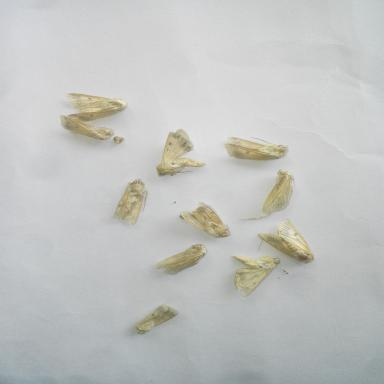abw: (219, 243, 289, 300), (251, 216, 320, 269), (148, 126, 211, 180), (172, 192, 236, 242), (58, 86, 136, 126), (218, 127, 294, 166), (106, 172, 159, 227), (147, 238, 219, 278), (255, 165, 304, 221), (52, 111, 121, 147), (130, 300, 182, 339)
